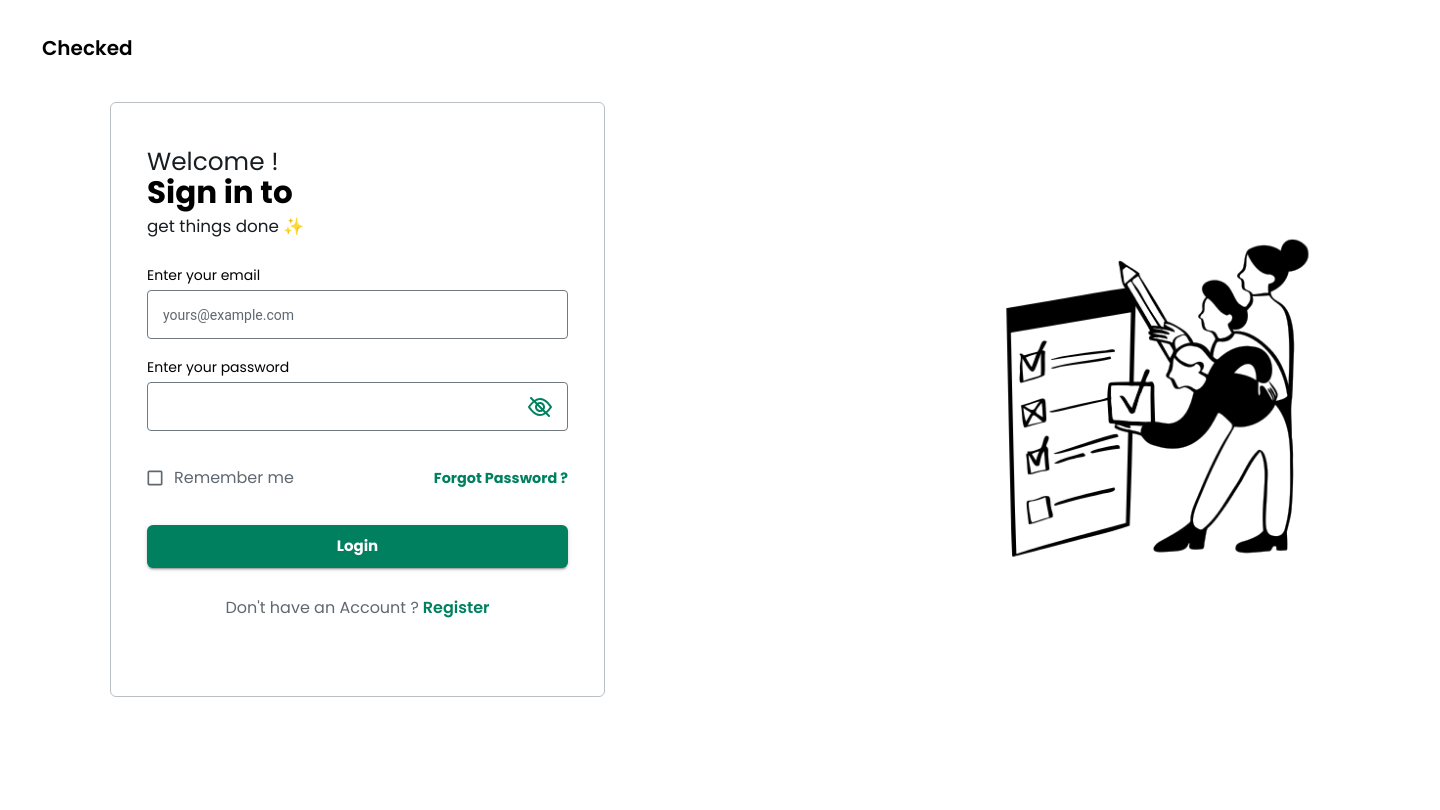
it: AuthPage › shows a demo-scope message for forgot password
The width and height of the screenshot is (1440, 810).
Click the button "Forgot Password ?": x=501, y=478 [434,468,568,489]
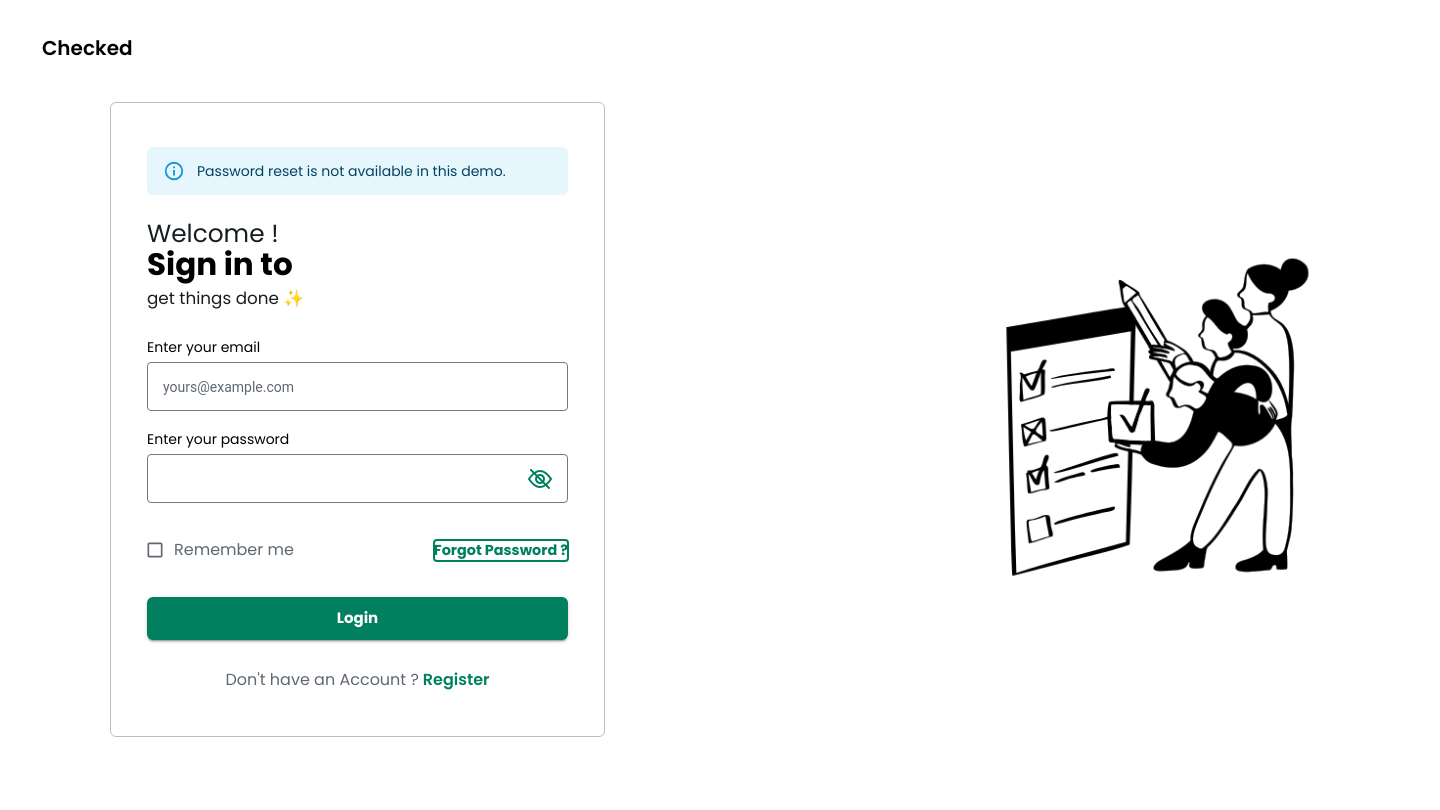
Expected: the text "Password reset is not available in this demo." is shown, [197,161,506,181]
